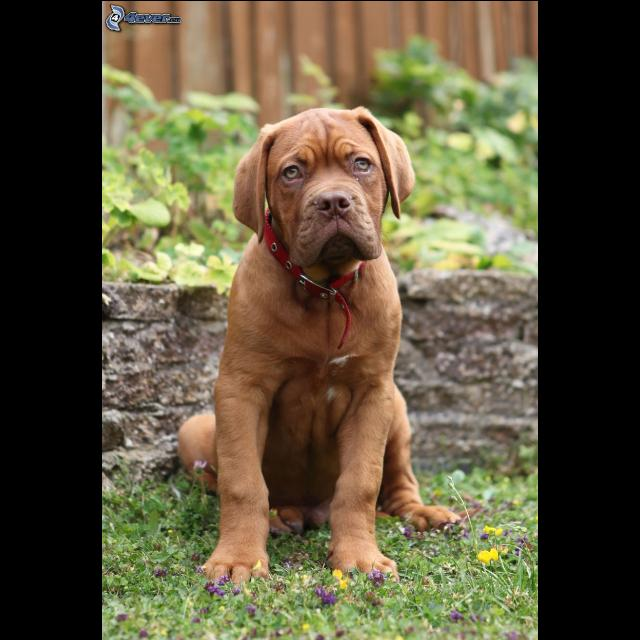dogue_de_bordeaux: (178, 105, 471, 588)
